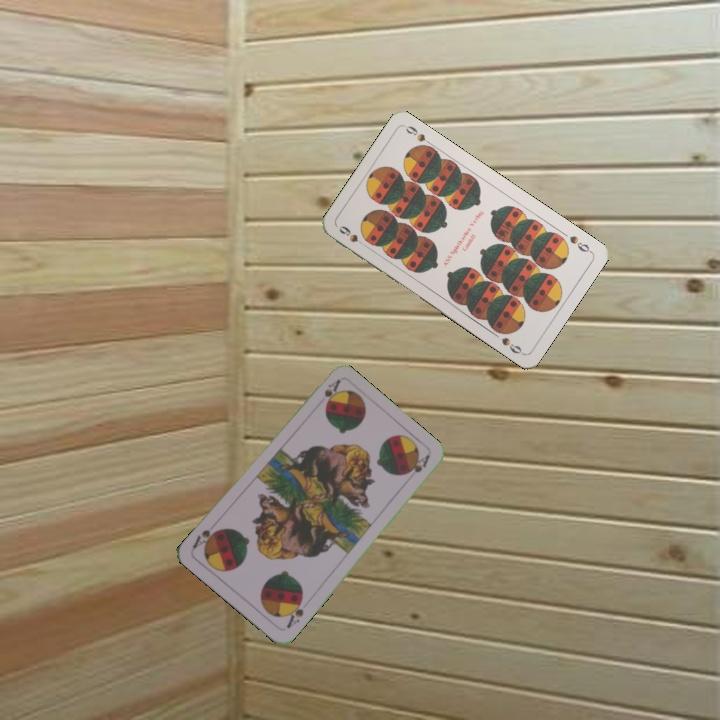S9: (335, 222, 370, 250), (565, 231, 594, 255)
SA: (282, 593, 306, 631), (320, 376, 343, 407)
